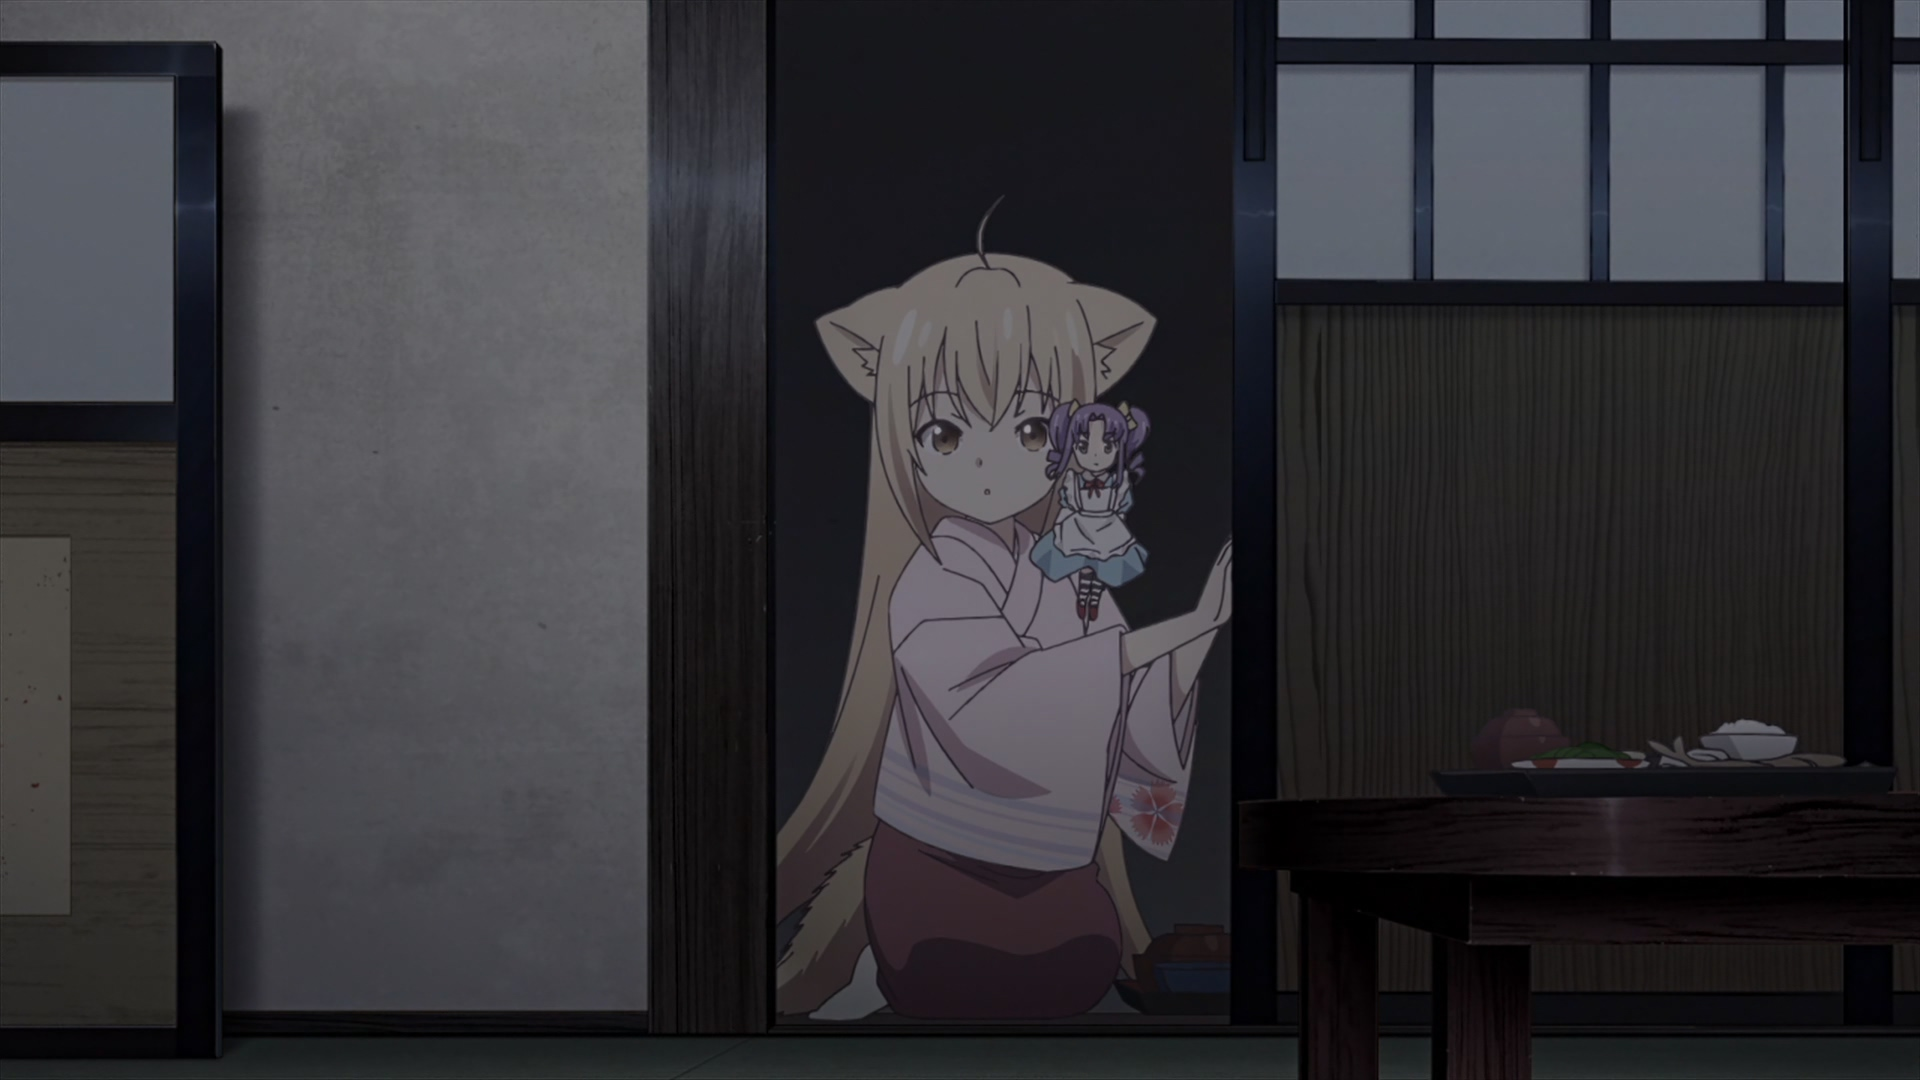柚: (775, 193, 1229, 1021)
阿菊: (1030, 401, 1149, 621)
